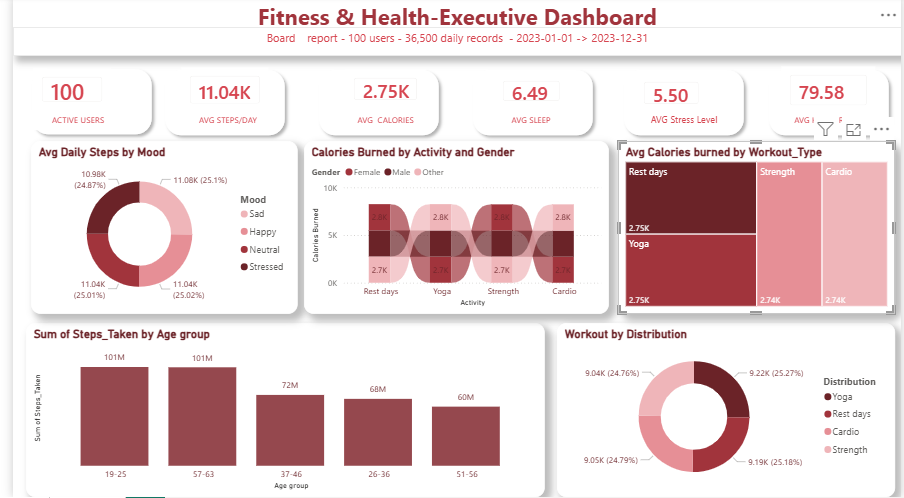

The dashboard page shown, as its layout file describes it:
{"tool":"powerbi","page":{"name":"Page 2","canvas":[1280,720],"ordinal":1},"visuals":[{"type":"clusteredColumnChart","fields":{"Category":["Sheet1.Age group 2"],"Y":["Sum(Sheet1.Steps_Taken)"]},"box":[10,0,431.7,280],"z":0},{"type":"donutChart","fields":{"Category":["Sheet1.Mood"],"Y":["Measures Table.Avg Daily Steps"]},"box":[461.7,0,395,280],"z":1000},{"type":"treemap","fields":{"Group":["Sheet1.Workout_Type"],"Values":["Measures Table.Avg Calories burned"]},"box":[868.3,0,393.3,280],"z":2000},{"type":"ribbonChart","fields":{"Category":["Sheet1.Workout_Type"],"Series":["Sheet1.Gender"],"Y":["Measures Table.Avg Calories burned"]},"box":[30,295,583.3,401.7],"z":3000},{"type":"donutChart","fields":{"Y":["CountNonNull(Sheet1.Workout_Type)"],"Category":["Sheet1.Workout_Type"]},"box":[712.7,360,395.1,279.5],"z":4000}]}

Visuals, with their boxes in screenshot pixels (x1, y1, x2, y2), scaled from the page's 1280x720 canvas onto the 904x498 screenshot:
clusteredColumnChart - Sheet1.Age group 2 x Sum(Sheet1.Steps_Taken): {"x1": 7, "y1": 0, "x2": 312, "y2": 194}
donutChart - Sheet1.Mood x Measures Table.Avg Daily Steps: {"x1": 326, "y1": 0, "x2": 605, "y2": 194}
treemap - Sheet1.Workout_Type x Measures Table.Avg Calories burned: {"x1": 613, "y1": 0, "x2": 891, "y2": 194}
ribbonChart - Sheet1.Workout_Type x Sheet1.Gender: {"x1": 21, "y1": 204, "x2": 433, "y2": 482}
donutChart - CountNonNull(Sheet1.Workout_Type) x Sheet1.Workout_Type: {"x1": 503, "y1": 249, "x2": 782, "y2": 442}
